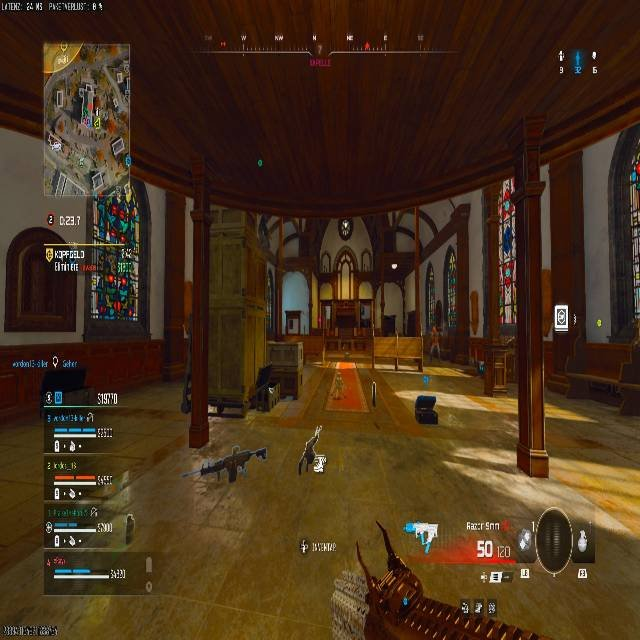player: (428, 324, 441, 361)
